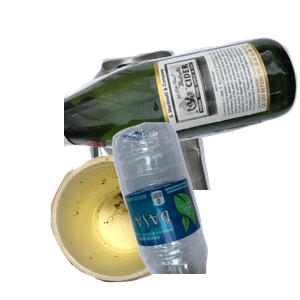glass: (64, 35, 300, 181)
metal: (85, 48, 300, 228)
plastic: (110, 120, 300, 300)
trash: (48, 152, 219, 300)
